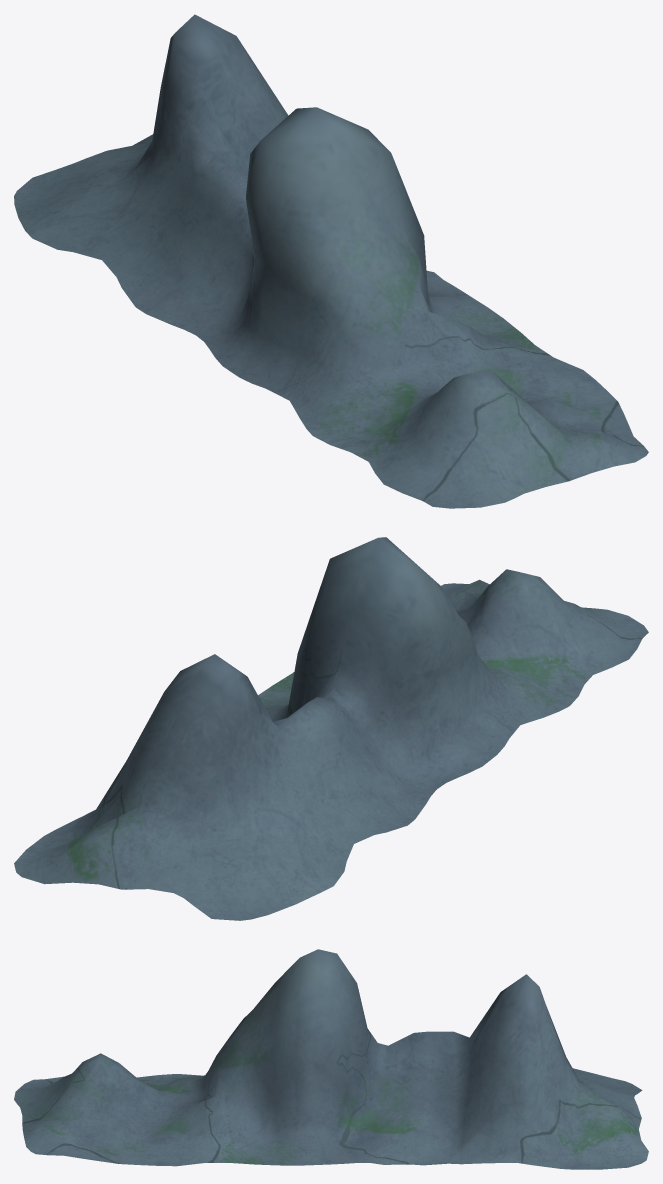
File: terrain_1.fbx
The picture shows the model from 3 angles, top to bottom: view 1: azimuth 30°, elevation 25°; view 2: azimuth 150°, elevation 25°; view 3: azimuth 270°, elevation 25°; orthographic projection. The views are drawn at different scales.
Visible parts, largest first — view 1: terrain_1; view 2: terrain_1; view 3: terrain_1.
Boxes of the visible parts, x1,y1,x2,y2 form: terrain_1: (14,14,648,508); terrain_1: (14,537,648,920); terrain_1: (14,949,648,1169).
Bounding box in the file's own units: 670 × 509 × 1789.
